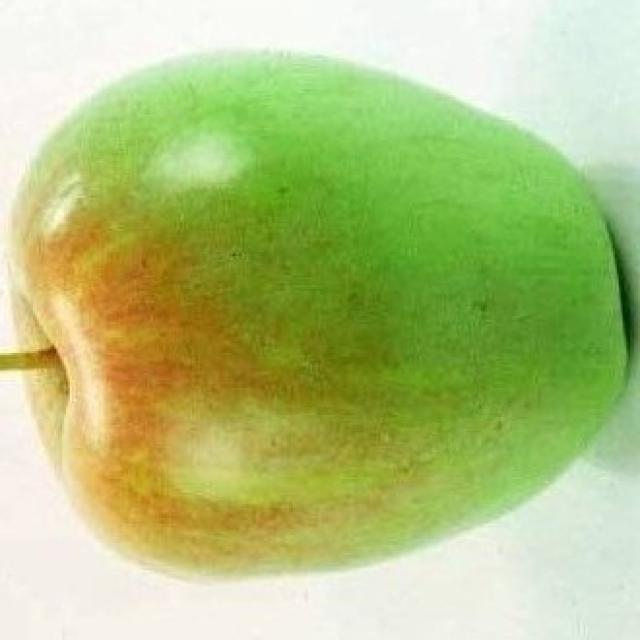75-_ripeness: (8, 47, 624, 576)
